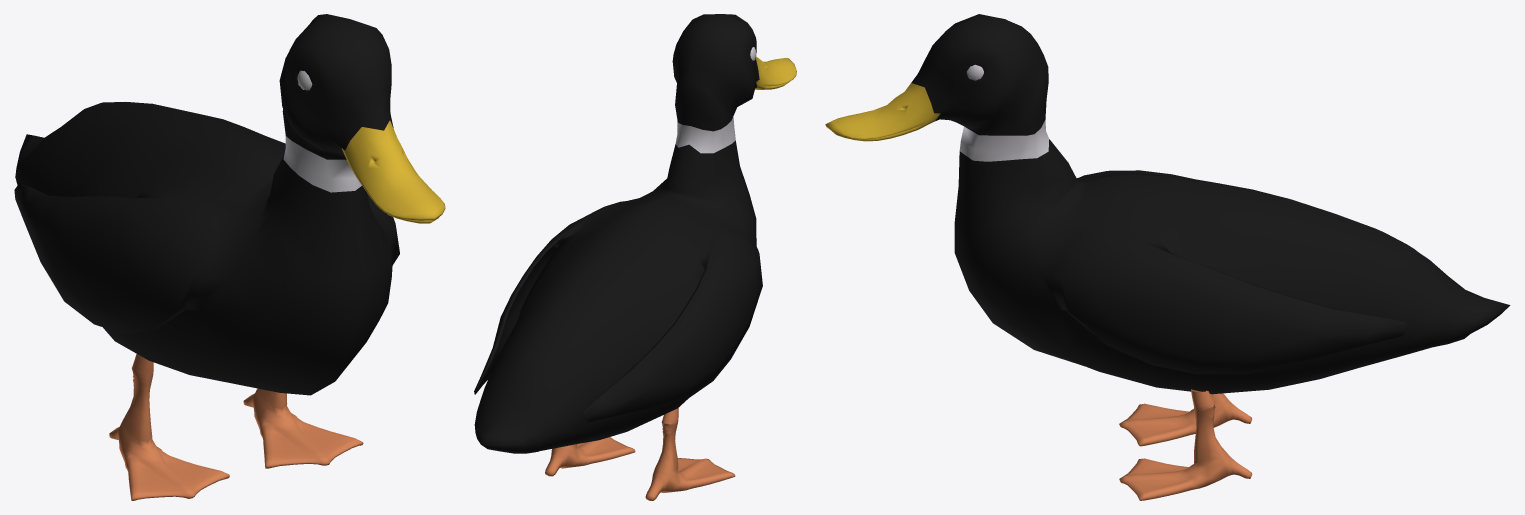
Rendered from duck.fbx.
The picture shows the model from 3 angles, left to right: view 1: azimuth 30°, elevation 25°; view 2: azimuth 150°, elevation 25°; view 3: azimuth 270°, elevation 25°; orthographic projection. The views are drawn at different scales.
Visible parts, largest first — view 1: duck_gaint; view 2: duck_gaint; view 3: duck_gaint.
Boxes of the visible parts, x1,y1,x2,y2 form: duck_gaint: [14, 14, 445, 500]; duck_gaint: [474, 14, 796, 500]; duck_gaint: [825, 14, 1510, 500].
Size of the model in its own units: 54.81 by 102 by 145.
